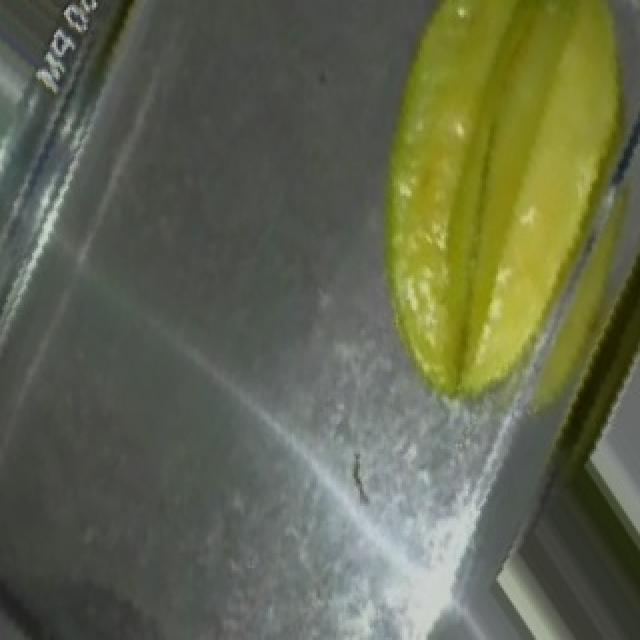fruit: (320, 0, 640, 325)
